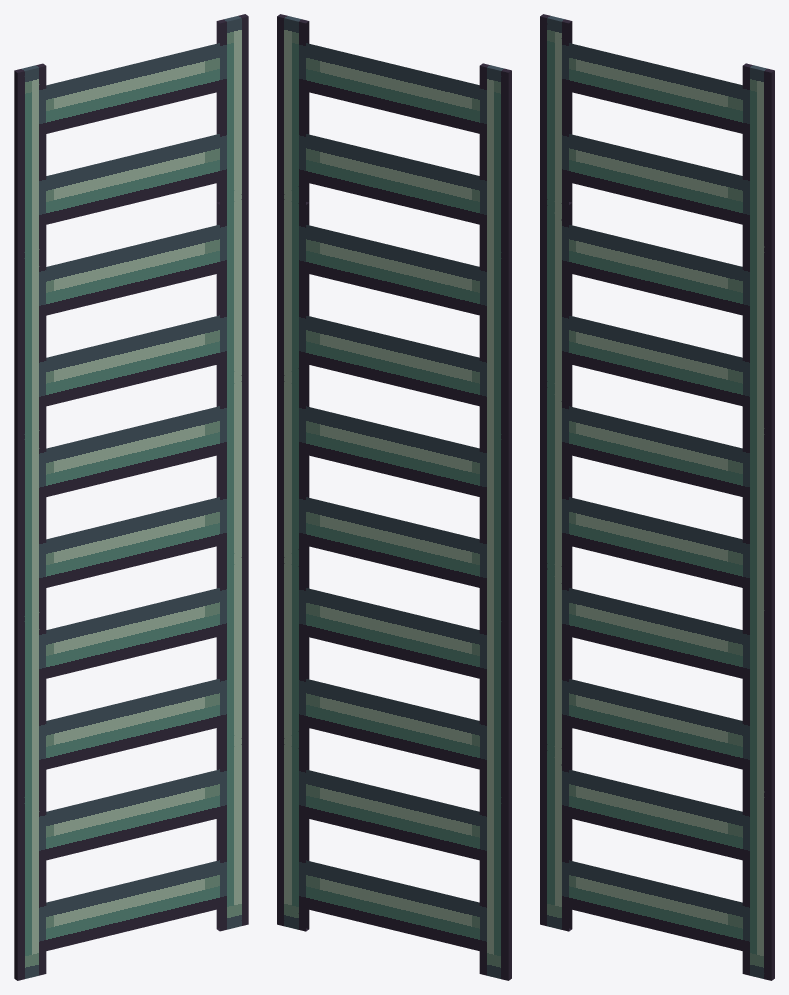
File: ladder_8.glb
3 renders of one model, left to right at view 1: azimuth 30°, elevation 25°; view 2: azimuth 150°, elevation 25°; view 3: azimuth 330°, elevation 25°, orthographic.
Parts seen in each view (by area): view 1: Ground.002; view 2: Ground.002; view 3: Ground.002.
Part boxes in pixels (x1,y1,x2,y2): Ground.002: [14, 14, 248, 980]; Ground.002: [277, 14, 511, 980]; Ground.002: [540, 14, 774, 980].
Bounding box in the file's own units: 2 × 7.5 × 0.0517.
1 material, 1 textured.
